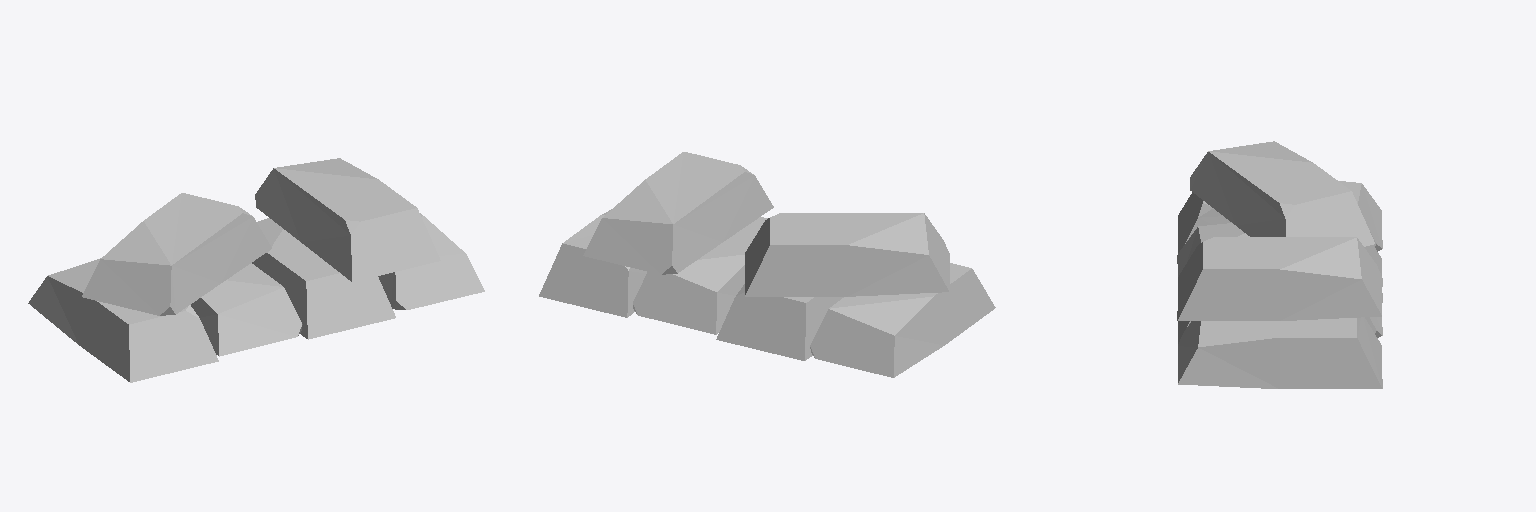
The model's file is Gold-18.obj.
3 renders of one model, left to right at view 1: azimuth 30°, elevation 25°; view 2: azimuth 150°, elevation 25°; view 3: azimuth 270°, elevation 25°, orthographic.
Parts seen in each view (by area): view 1: Gold_18; view 2: Gold_18; view 3: Gold_18.
Part boxes in pixels (bbox=[...]): Gold_18: bbox=[28, 158, 484, 382]; Gold_18: bbox=[539, 152, 995, 377]; Gold_18: bbox=[1177, 141, 1382, 388].
Size of the model in its own units: 0.3012 by 0.075 by 0.1501.